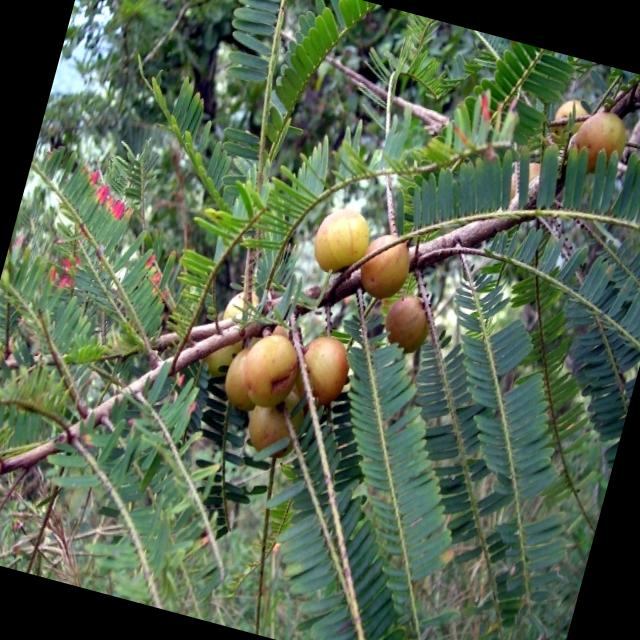Amla: (0, 150, 640, 640), (101, 136, 572, 616), (241, 38, 635, 368)
